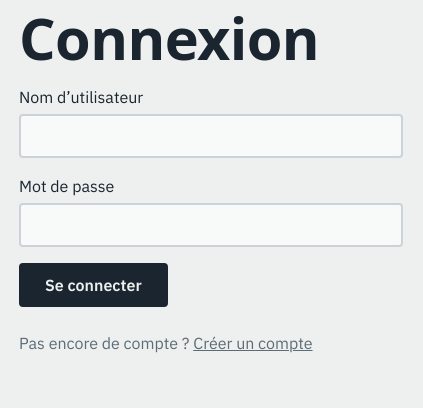
Test case: AuthPage (login) › shows a readable message for wrong credentials
In the field labelled "Nom d’utilisateur": (211, 136) [19,114,403,158], type "Alice"
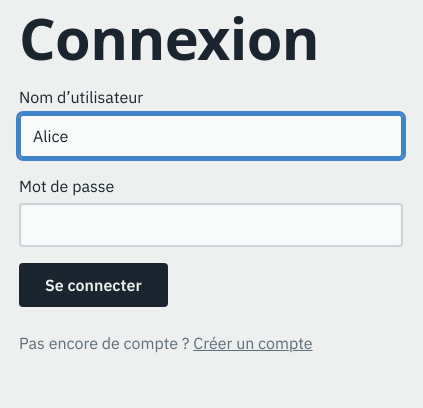
In the password field labelled "Mot de passe": (211, 225) [19,203,403,247], type "wrong-pass"
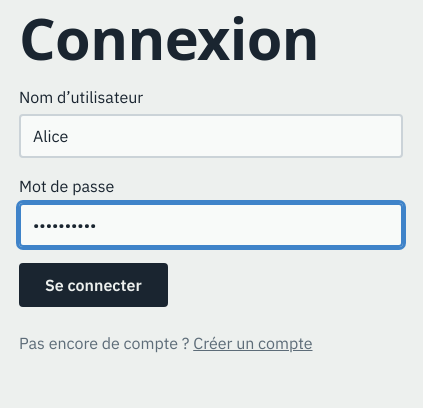
Click the button "Se connecter": click(93, 285) [19,263,168,307]
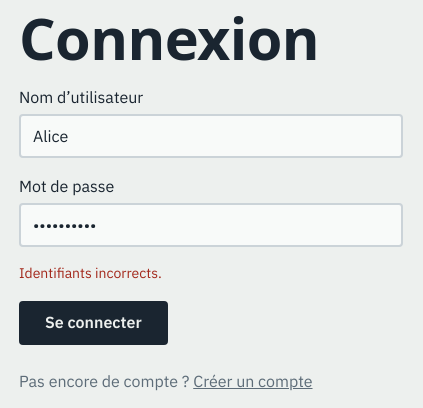
Check: the message reads "Identifiants incorrects.", box [19,264,162,282]
